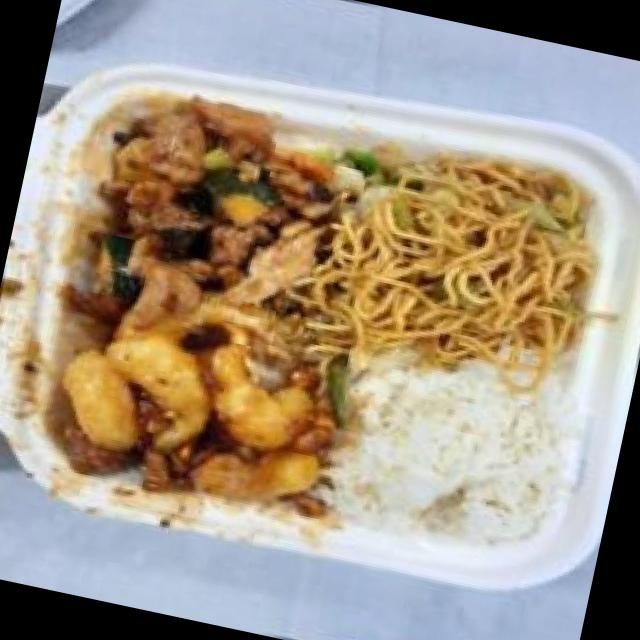Chow Mein: (296, 116, 632, 402)
Honey Walnut Shrimp: (25, 264, 375, 534)
Kung Pao Chicken: (57, 64, 356, 338)
White Steamed Rice: (302, 325, 602, 580)
